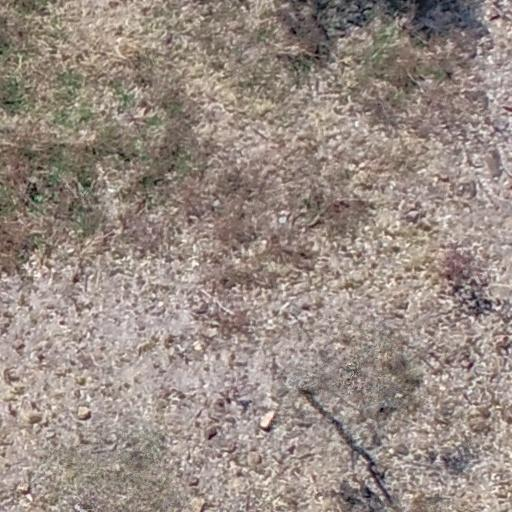stone: (468, 410, 492, 434), (256, 407, 279, 431), (245, 451, 267, 468), (404, 207, 424, 225), (3, 366, 21, 385), (24, 409, 44, 425), (494, 338, 510, 356), (168, 387, 187, 402), (221, 439, 238, 455), (393, 442, 411, 456), (76, 406, 92, 420), (190, 301, 208, 313), (205, 426, 219, 441), (16, 481, 31, 495), (231, 454, 245, 468), (299, 300, 313, 312), (75, 374, 87, 386), (188, 475, 200, 487)
